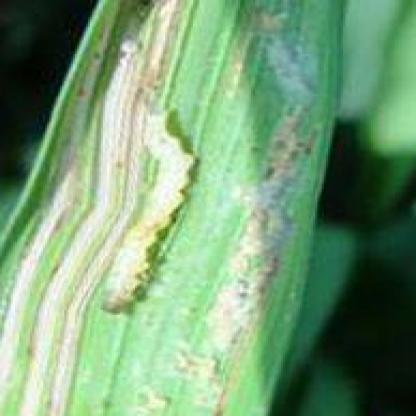leaf-folder: (80, 94, 265, 326)
